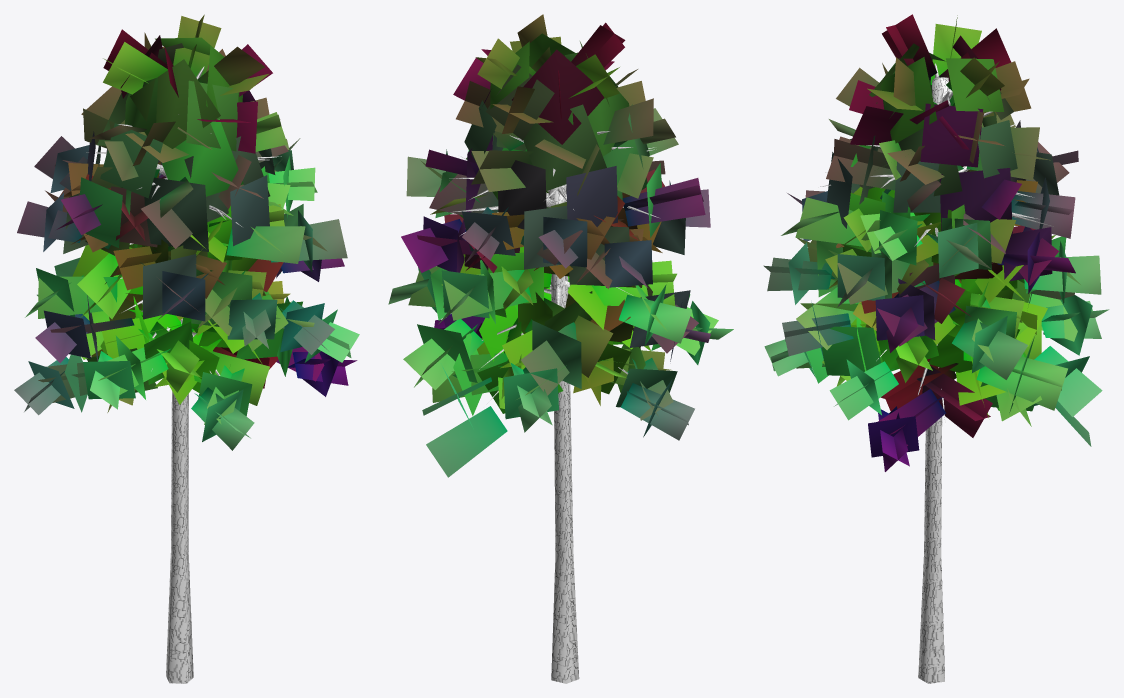
Rendered from WhitePine_LOD1.fbx.
3 renders of one model, left to right at view 1: azimuth 30°, elevation 25°; view 2: azimuth 150°, elevation 25°; view 3: azimuth 270°, elevation 25°, orthographic.
Visible parts, largest first — view 1: Foliage, Bark; view 2: Foliage, Bark; view 3: Foliage, Bark.
Part boxes in pixels (x1,y1,x2,y2): Foliage: (14, 14, 359, 450); Bark: (86, 66, 281, 683); Foliage: (388, 14, 733, 477); Bark: (447, 131, 658, 683); Foliage: (763, 14, 1109, 471); Bark: (820, 63, 1053, 683).
Size of the model in its own units: 8.79 by 18.19 by 8.78.
